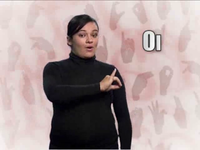oi: (100, 71, 123, 92)
